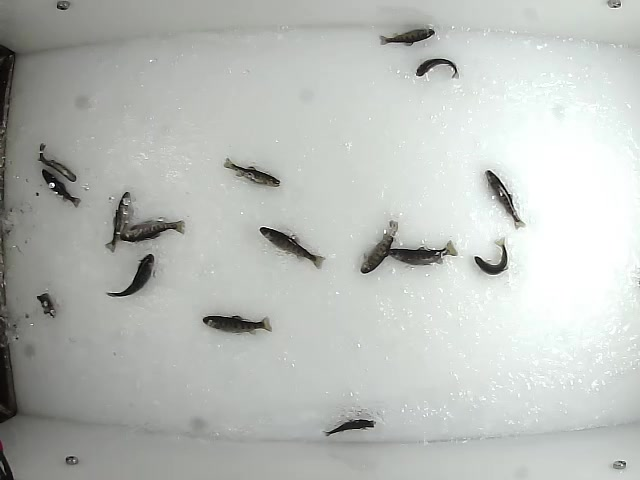fish: (257, 223, 330, 271), (483, 168, 531, 230), (357, 217, 401, 277), (103, 250, 154, 299), (385, 236, 460, 267), (102, 188, 133, 253), (116, 216, 189, 243), (221, 156, 282, 188), (35, 141, 79, 184), (39, 166, 84, 208), (199, 312, 275, 336), (473, 233, 511, 275), (377, 25, 436, 48), (320, 416, 378, 438), (414, 56, 460, 80), (37, 289, 61, 320)
